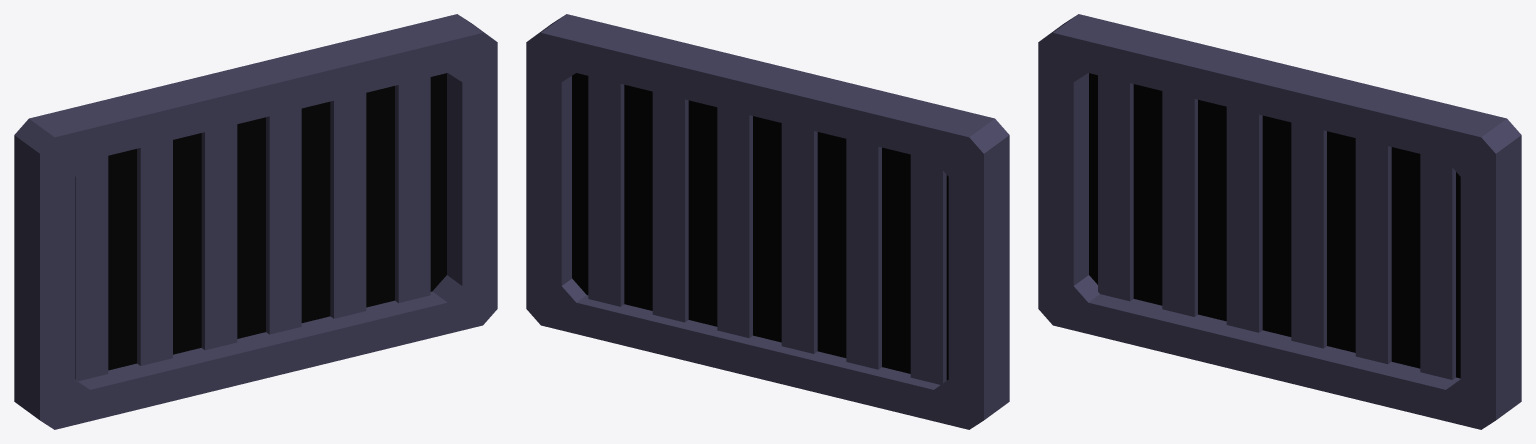
3 renders of one model, left to right at view 1: azimuth 30°, elevation 25°; view 2: azimuth 150°, elevation 25°; view 3: azimuth 330°, elevation 25°, orthographic.
Parts seen in each view (by area): view 1: Cube.004; view 2: Cube.004; view 3: Cube.004.
Part boxes in pixels (bbox=[...]): Cube.004: bbox=[14, 14, 497, 429]; Cube.004: bbox=[526, 14, 1009, 429]; Cube.004: bbox=[1038, 14, 1521, 429].
Size of the model in its own units: 88.21 by 53.91 by 8.6.
